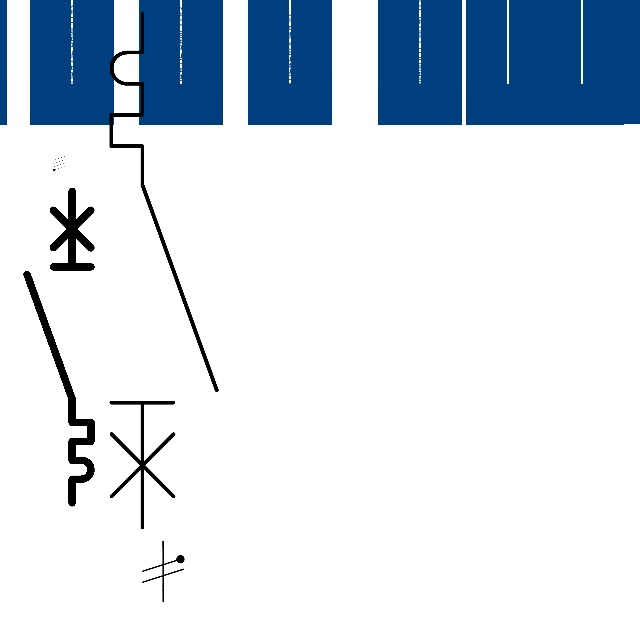interruptor_termomagnetico: (98, 0, 230, 541), (19, 183, 99, 511)
